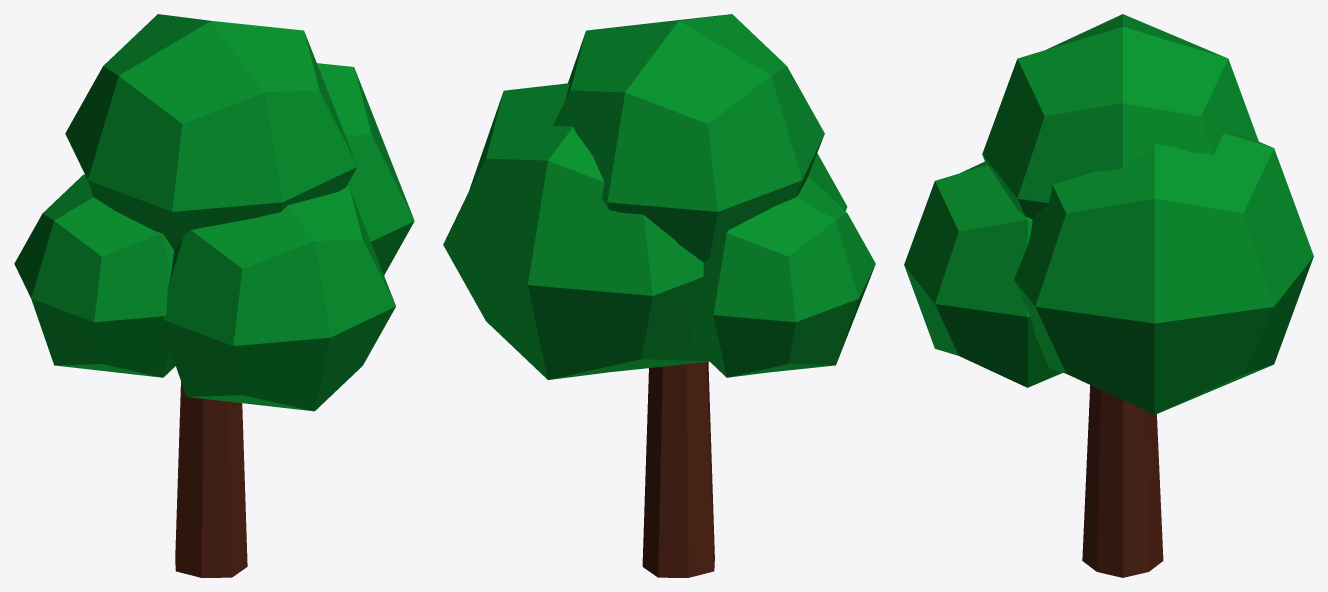
File: Tree4.fbx
3 views of the same model, side by side, from view 1: azimuth 30°, elevation 25°; view 2: azimuth 150°, elevation 25°; view 3: azimuth 270°, elevation 25° (orthographic).
Visible parts, largest first — view 1: Tree4; view 2: Tree4; view 3: Tree4.
Boxes of the visible parts, box(x1,y1,x2,y2) form: Tree4: box(14, 14, 414, 577); Tree4: box(443, 14, 875, 577); Tree4: box(904, 14, 1313, 577).
Bounding box in the file's own units: 856 × 1185 × 824.
